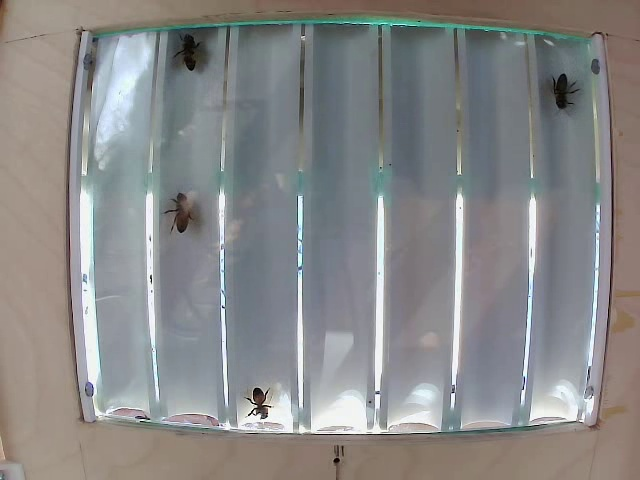bee: (167, 190, 211, 235), (176, 28, 209, 76), (541, 71, 577, 109), (241, 390, 285, 415)
